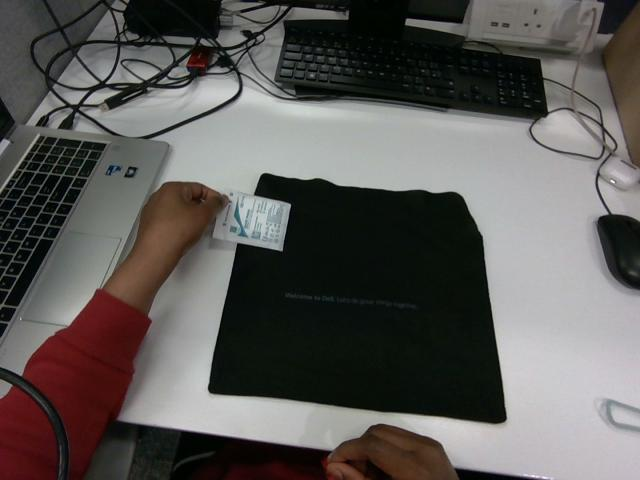gauze: (213, 191, 290, 250)
